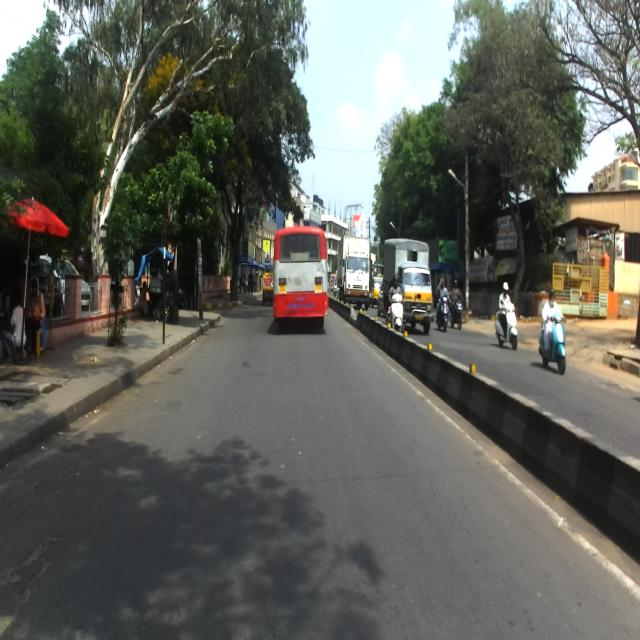bus ahead at: (271, 224, 327, 325)
